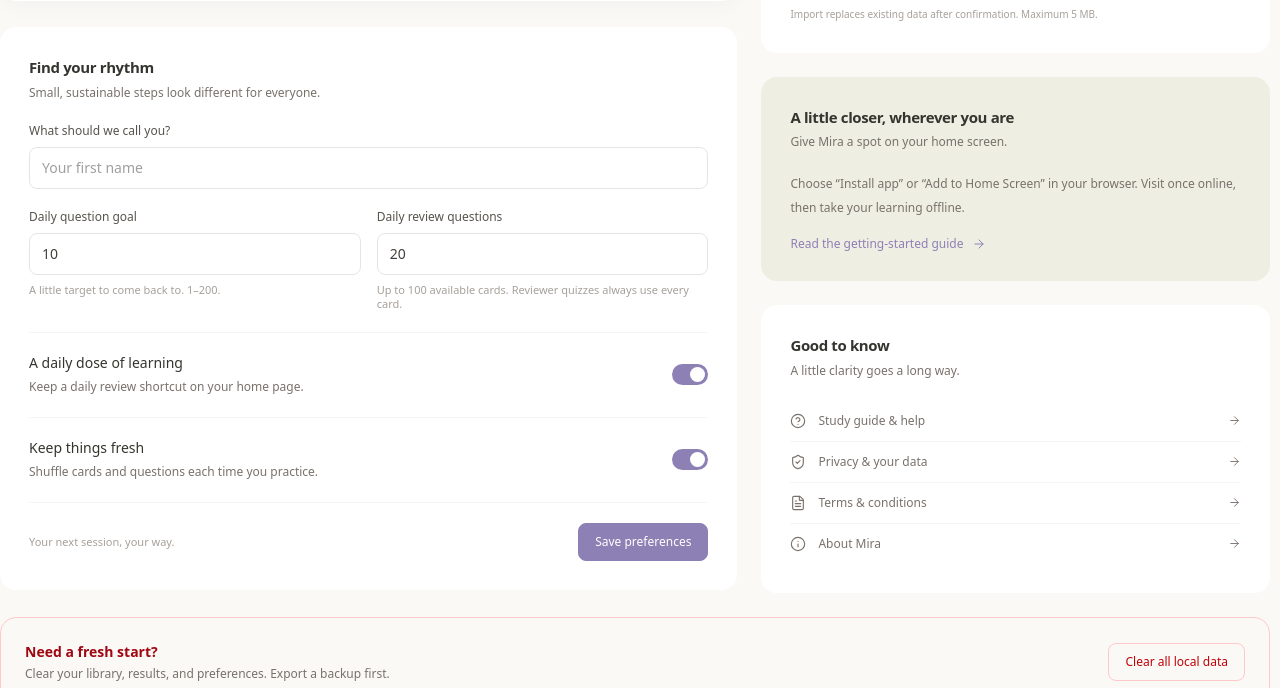
clearing data requires confirmation and reports successful resets
(page scrolled)
Click the button "Clear all local data": [1177, 662] box [1108,642,1245,680]
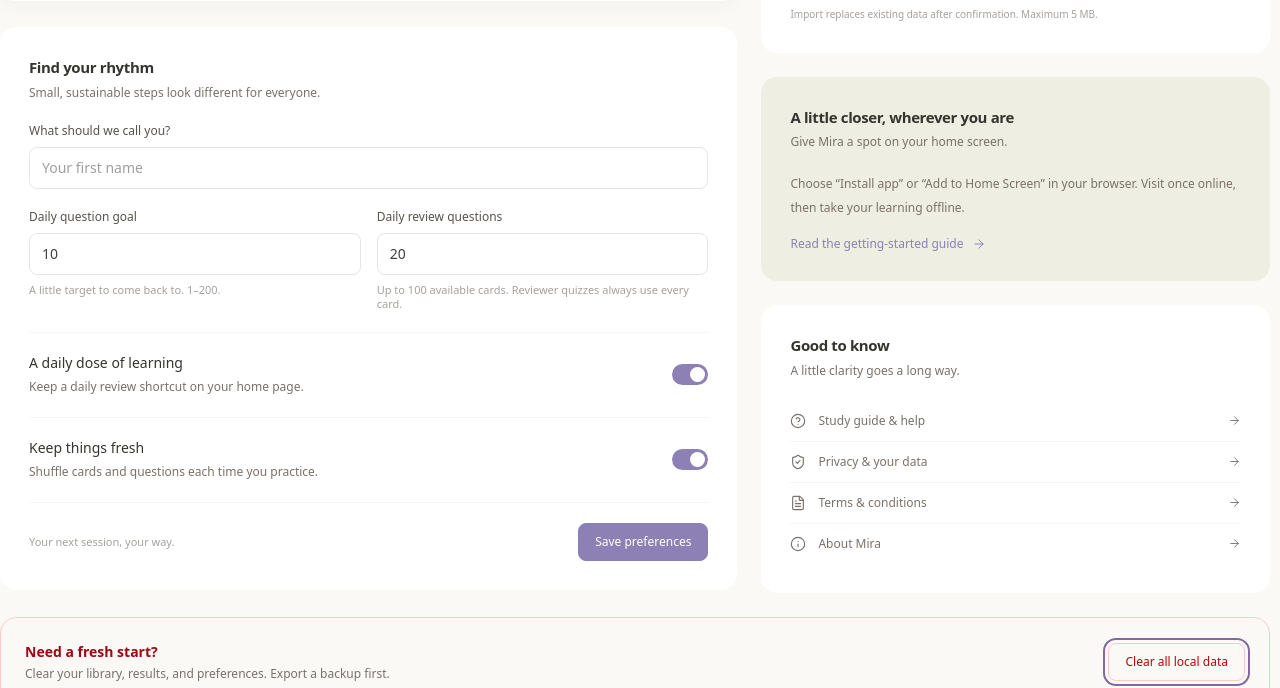
Click the button "Clear all local data": [1177, 662] box [1108,642,1245,680]
(page scrolled)
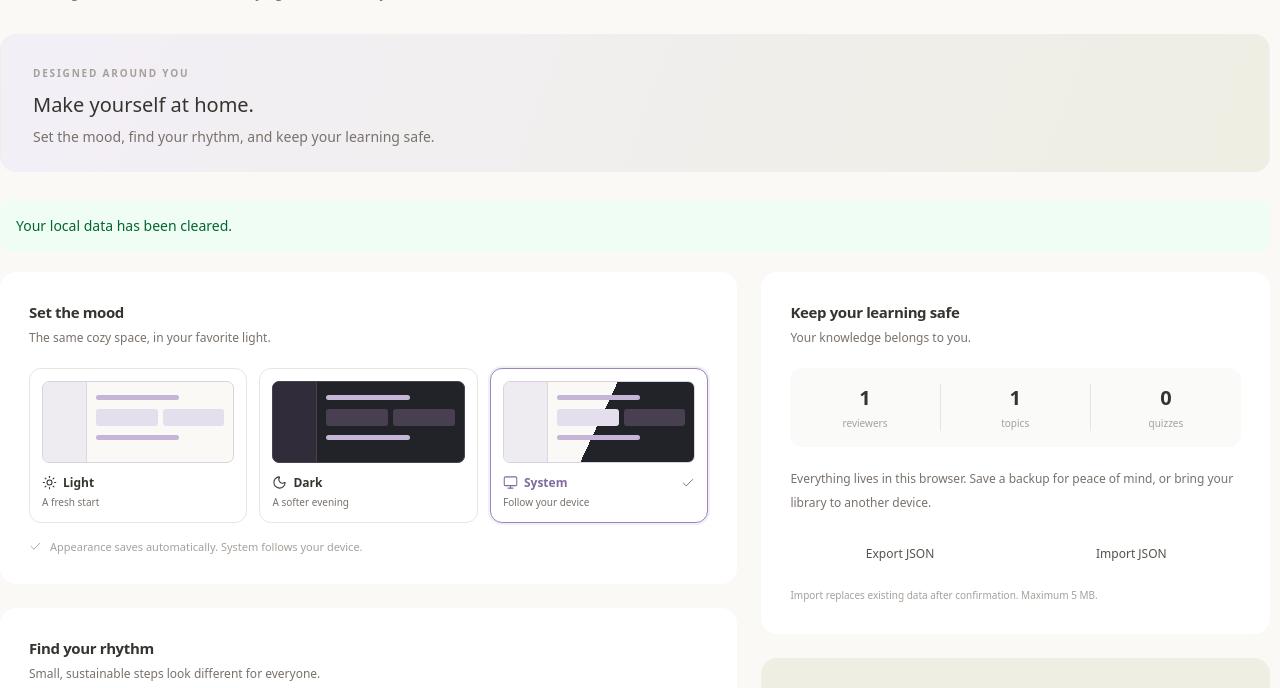
Result: the message shows "cleared" at [16,216,232,235]
